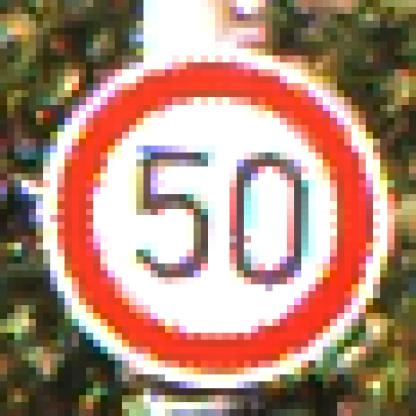Speed Limit 50: (50, 62, 378, 375)
